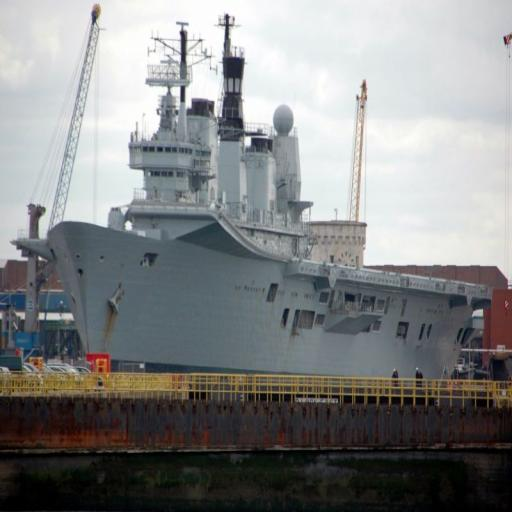Portanaves: (12, 14, 496, 383)
